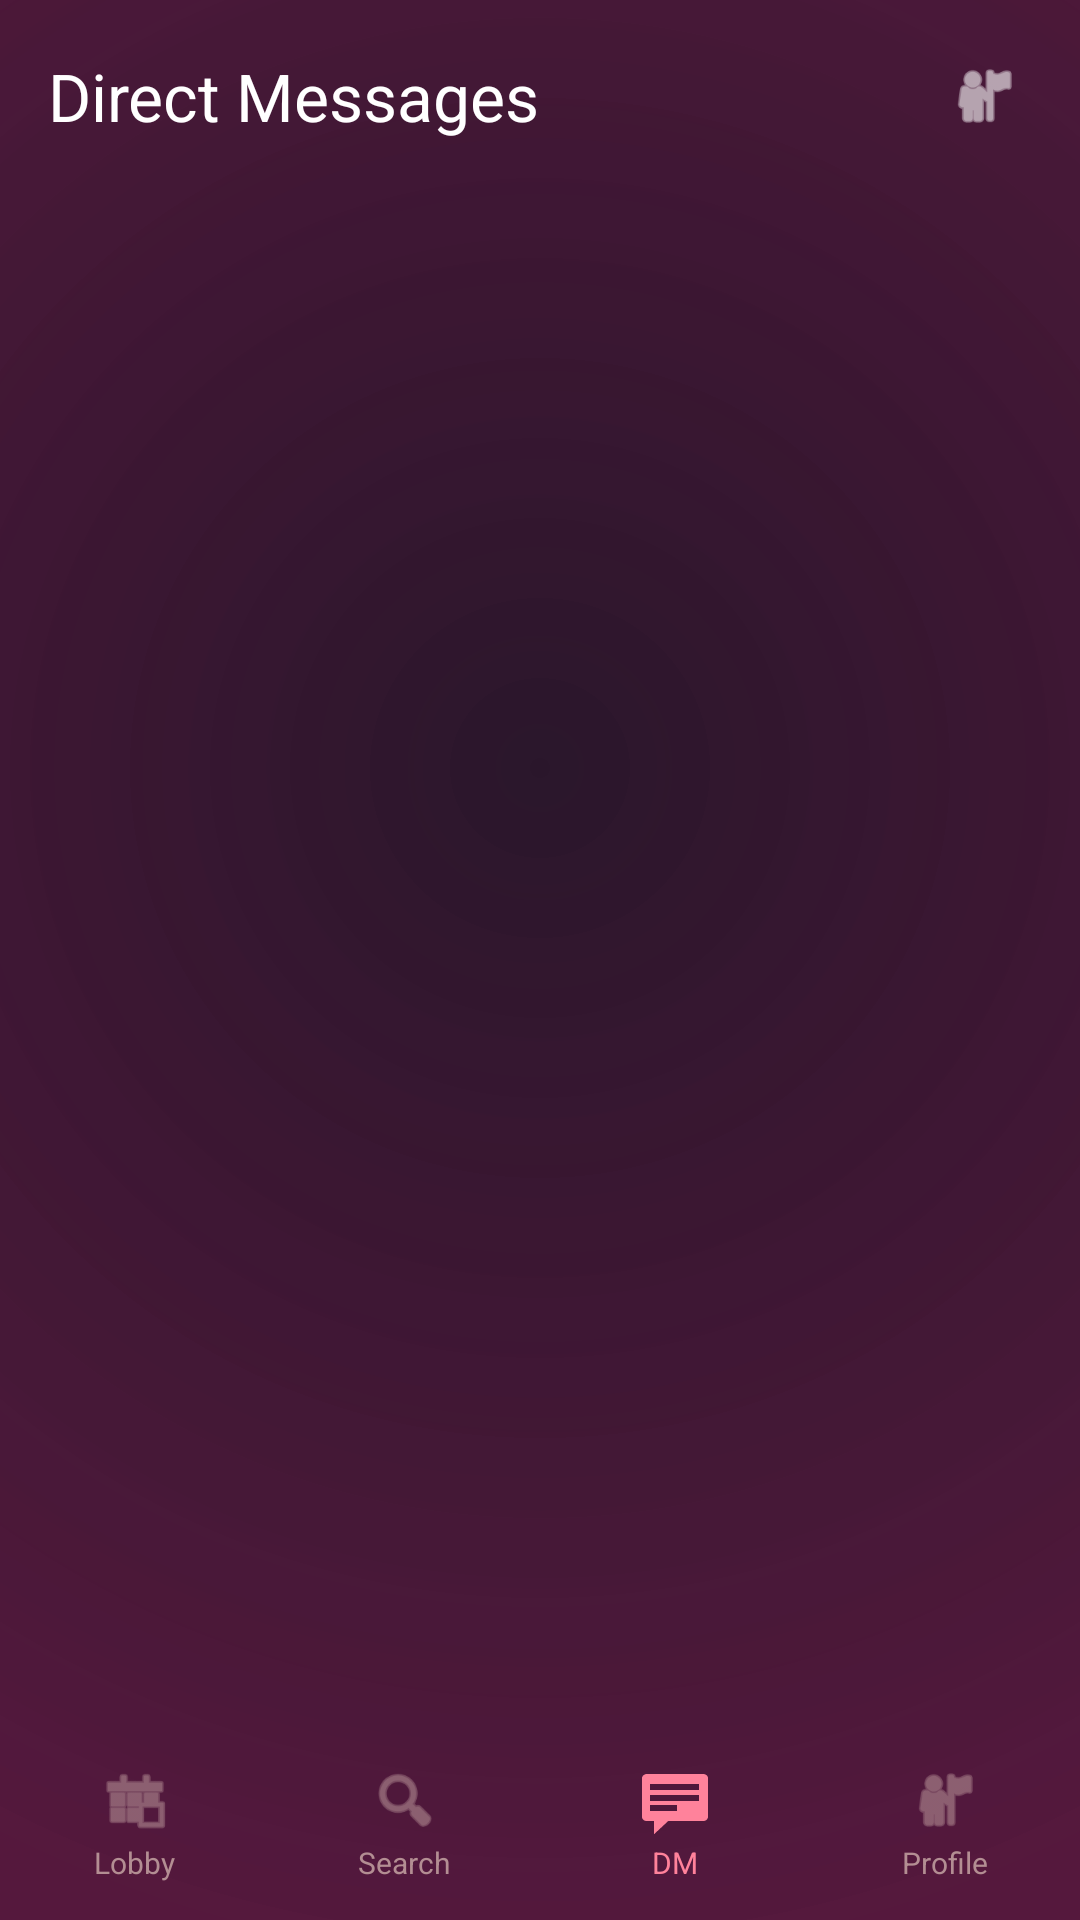

Locate icon controls on the screen. Image size 1080×1920, boxes as (x1=x1, y1=y1, x2=x2, y2=y2).
myplaces: (x1=958, y1=69, x2=1012, y2=123), (x1=919, y1=1773, x2=973, y2=1827)
today: (x1=106, y1=1774, x2=165, y2=1828)
